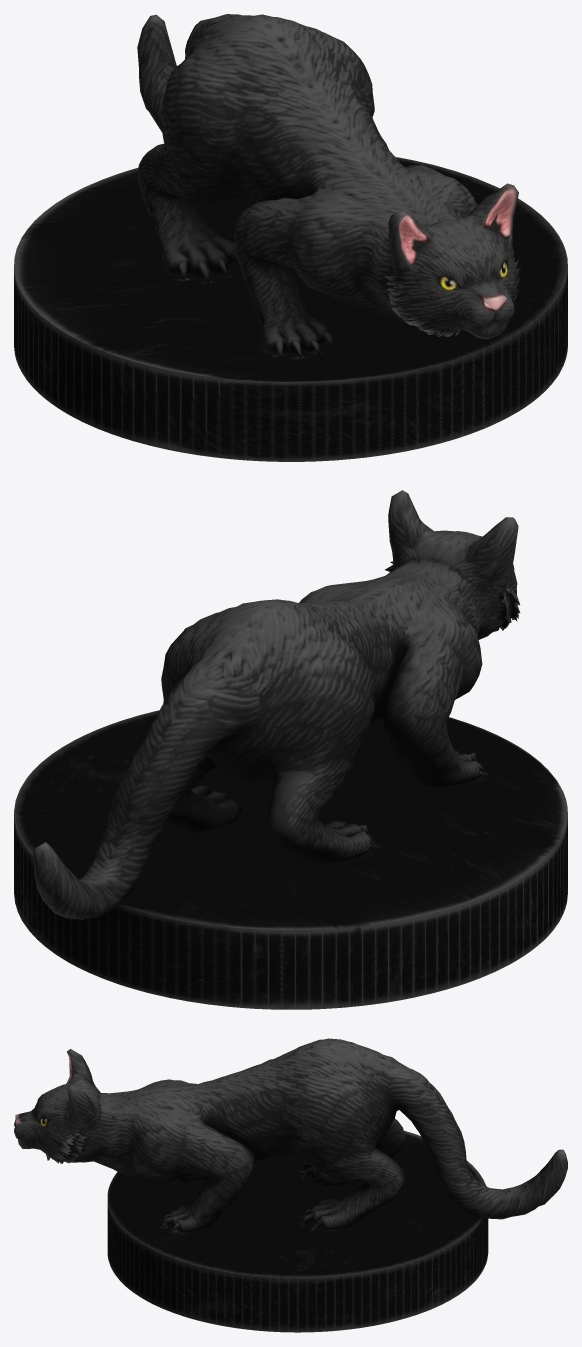
File: MZ4250 - Cat (black).glb
The picture shows the model from 3 angles, top to bottom: view 1: azimuth 30°, elevation 25°; view 2: azimuth 150°, elevation 25°; view 3: azimuth 270°, elevation 25°; orthographic projection. The views are drawn at different scales.
Parts seen in each view (by area): view 1: model_low.001; view 2: model_low.001; view 3: model_low.001.
Part boxes in pixels (box(x1,y1,x2,y2)): model_low.001: box(14, 14, 567, 461); model_low.001: box(14, 490, 567, 1009); model_low.001: box(14, 1038, 567, 1332).
Bounding box in the file's own units: 1.23 × 0.7406 × 1.79.
1 material, 1 textured.
